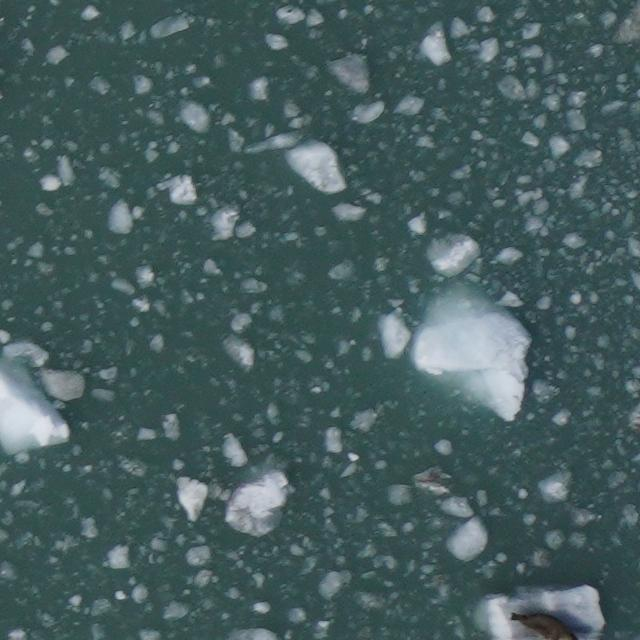seal: (504, 608, 584, 640)
